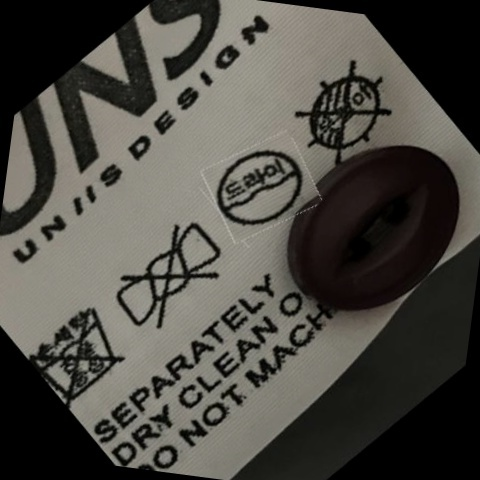DN_dry: (293, 61, 395, 165)
DN_wring: (111, 221, 227, 336)
dry_clean: (215, 140, 307, 236)
hand_wash: (32, 297, 129, 403)
